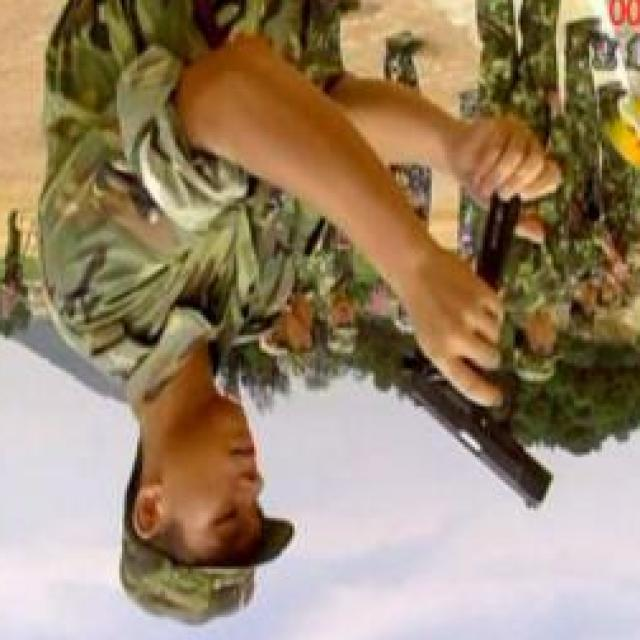pistol: (402, 277, 558, 513)
